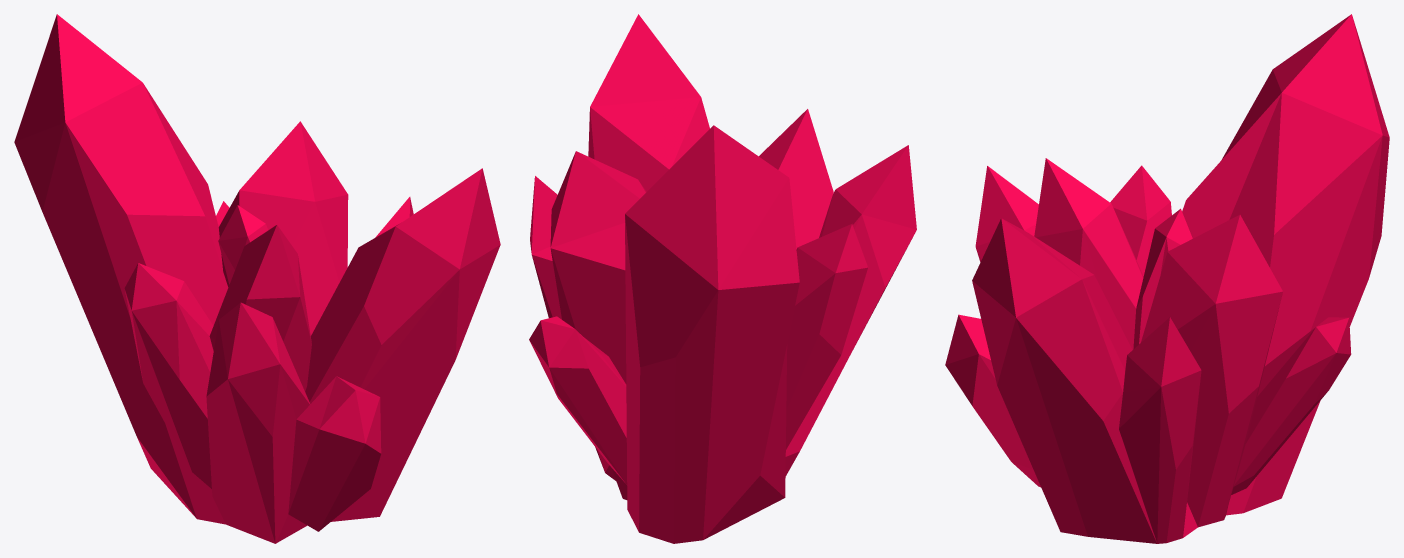
Rendered from CrystalRed.fbx.
3 renders of one model, left to right at view 1: azimuth 30°, elevation 25°; view 2: azimuth 150°, elevation 25°; view 3: azimuth 270°, elevation 25°, orthographic. The views are drawn at different scales.
Parts seen in each view (by area): view 1: Cube.005; view 2: Cube.005; view 3: Cube.005.
Part boxes in pixels (x1=…): Cube.005: x1=14, y1=14, x2=500, y2=543; Cube.005: x1=529, y1=14, x2=916, y2=543; Cube.005: x1=945, y1=14, x2=1389, y2=543.
Size of the model in its own units: 41.63 by 54.09 by 50.29.
